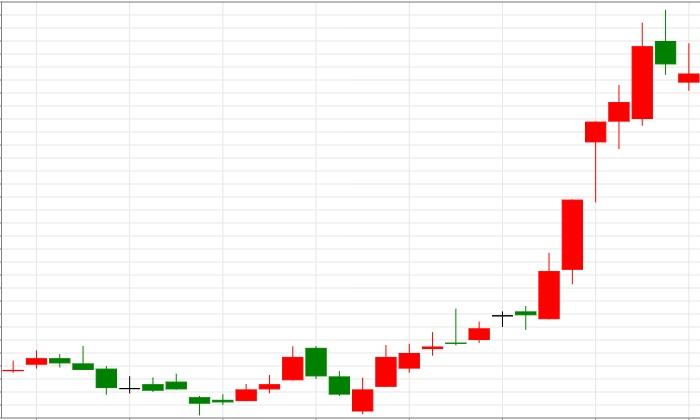hanging_man_fall: (469, 122, 606, 342)
shooting_star_fall: (469, 10, 676, 343)
